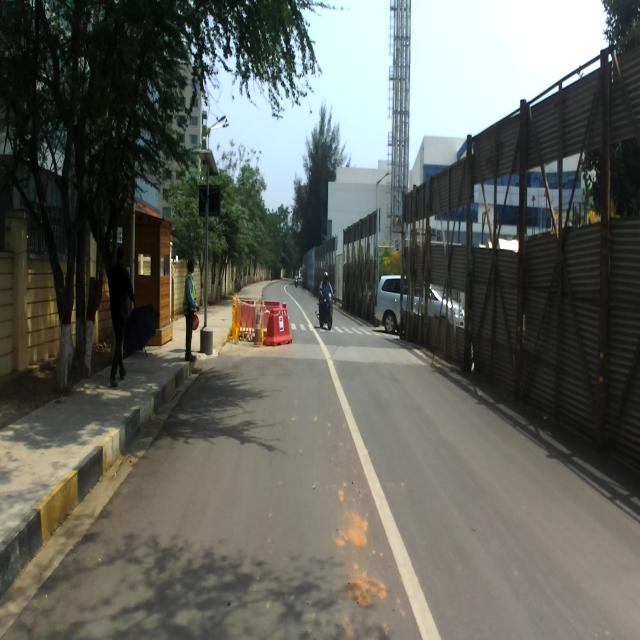barrier ahead at: (266, 301, 293, 347)
person ahead at: (105, 242, 136, 392), (179, 250, 203, 366)
tree ahead at: (33, 202, 87, 393)
